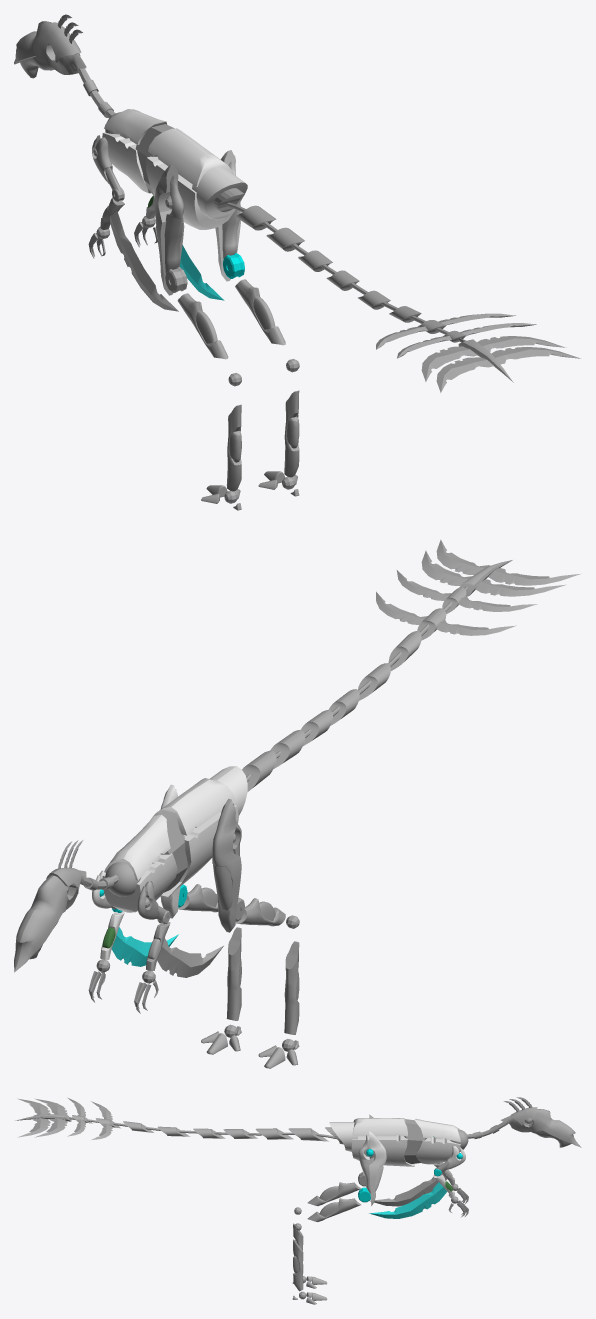
The model's file is fff.fbx.
The picture shows the model from 3 angles, top to bottom: view 1: azimuth 30°, elevation 25°; view 2: azimuth 150°, elevation 25°; view 3: azimuth 270°, elevation 25°; orthographic projection. The views are drawn at different scales.
Parts seen in each view (by area): view 1: pCylinder5, polySurface85, polySurface21, imagePlane3, polySurface75, polySurface54_polySurface56_polySurface64_polySurface66, polySurface23, polySurface35, polySurface24, polySurface37, polySurface33, polySurface112 (+5 smaller); view 2: pCylinder5, imagePlane3, polySurface75, polySurface85, polySurface21, polySurface54_polySurface56_polySurface64_polySurface66, polySurface112, polySurface71, polySurface24, polySurface117, polySurface37, polySurface23 (+10 smaller); view 3: pCylinder5, imagePlane3, polySurface75, polySurface85, polySurface33, polySurface71, polySurface54_polySurface56_polySurface64_polySurface66, polySurface35, polySurface23, pCylinder20, polySurface37, polySurface112 (+4 smaller).
Part boxes in pixels (x1,y1,x2,y2): pCylinder5: (146,128,247,229); polySurface85: (421,336,580,392); polySurface21: (154,164,184,295); imagePlane3: (14,14,86,74); polySurface75: (102,109,166,193); polySurface54_polySurface56_polySurface64_polySurface66: (100,197,178,311); polySurface23: (165,267,228,359); polySurface35: (223,253,285,345); polySurface24: (226,373,241,491); polySurface37: (284,359,299,477); polySurface33: (215,150,241,281); polySurface112: (376,313,515,349); pCylinder5: (151,766,247,897); imagePlane3: (14,840,86,972); polySurface75: (102,814,177,912); polySurface85: (421,539,581,596); polySurface21: (212,798,241,932); polySurface54_polySurface56_polySurface64_polySurface66: (146,922,223,977); polySurface112: (376,591,516,640); polySurface71: (100,911,178,966); polySurface24: (284,915,299,1034); polySurface117: (396,570,537,613); polySurface37: (226,927,241,1020); polySurface23: (235,897,285,926); pCylinder5: (329,1118,414,1166); imagePlane3: (500,1097,581,1147); polySurface75: (414,1118,460,1164); polySurface85: (15,1098,71,1137); polySurface33: (358,1130,386,1205); polySurface71: (369,1175,454,1218); polySurface54_polySurface56_polySurface64_polySurface66: (369,1162,454,1206); polySurface35: (307,1187,370,1221); polySurface23: (307,1172,365,1205); pCylinder20: (404,1119,426,1163); polySurface37: (293,1223,303,1291); polySurface112: (85,1101,120,1139).
Bounding box in the file's own units: 7.12 × 16.48 × 43.65.
